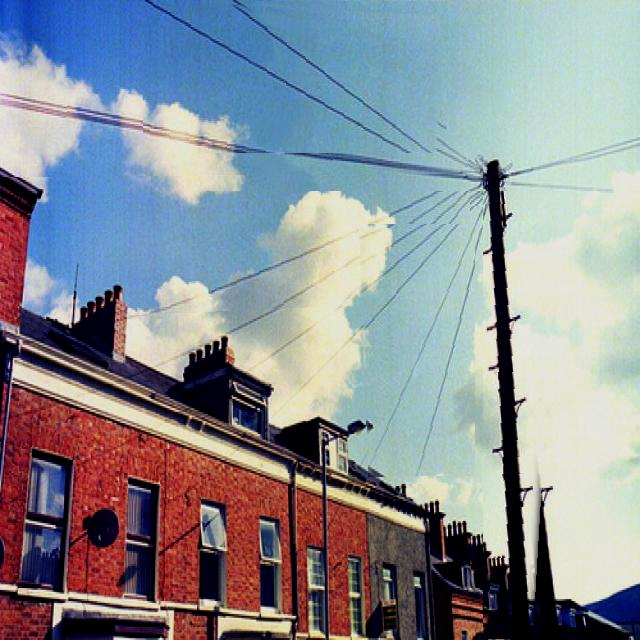pole: (483, 162, 539, 640)
wire: (144, 0, 415, 153), (138, 191, 461, 315), (0, 94, 483, 175), (235, 2, 447, 132), (367, 224, 475, 477), (405, 206, 492, 477)
